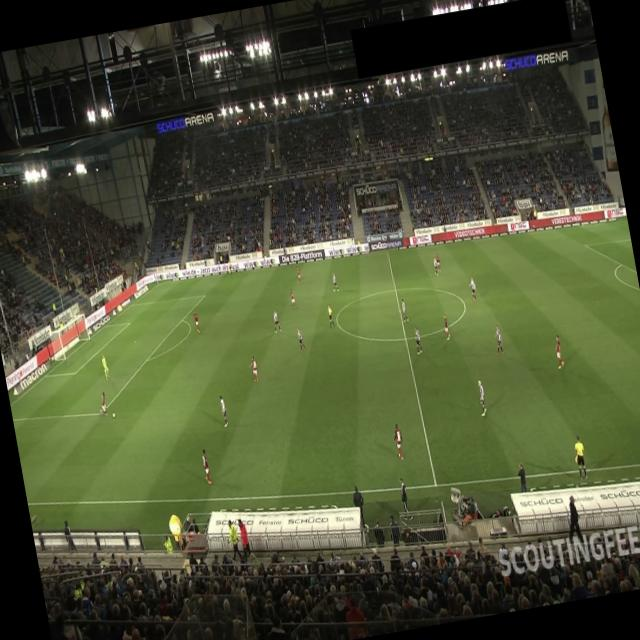ball: (110, 410, 116, 420)
goalkeeper: (100, 352, 110, 381)
player: (391, 422, 406, 461), (475, 378, 488, 416), (552, 334, 566, 369), (200, 448, 212, 483), (218, 394, 230, 427), (247, 354, 260, 384), (492, 324, 504, 356), (412, 325, 423, 354), (270, 307, 282, 333), (97, 390, 108, 416), (296, 325, 306, 352), (468, 276, 478, 302), (442, 312, 451, 340), (399, 298, 409, 322), (330, 270, 340, 294), (288, 288, 298, 310), (294, 264, 304, 284), (433, 251, 442, 273), (192, 310, 200, 333), (432, 256, 439, 277)
referee: (570, 434, 589, 479), (326, 303, 336, 328), (225, 258, 232, 274)
